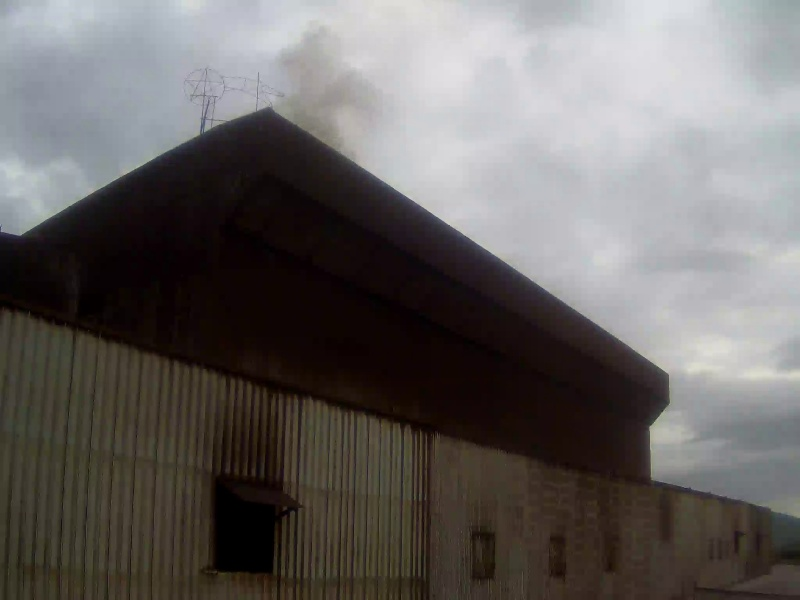bom: (3, 22, 266, 182), (635, 326, 763, 475)
ruim: (270, 30, 678, 410), (260, 27, 400, 181)
